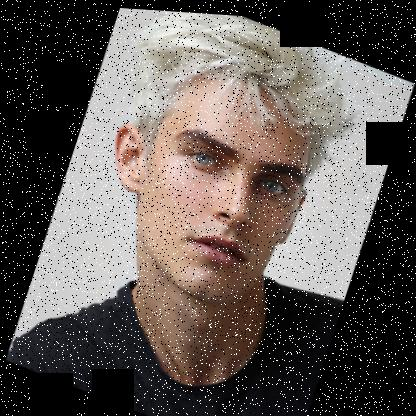Male: (78, 30, 334, 321)
